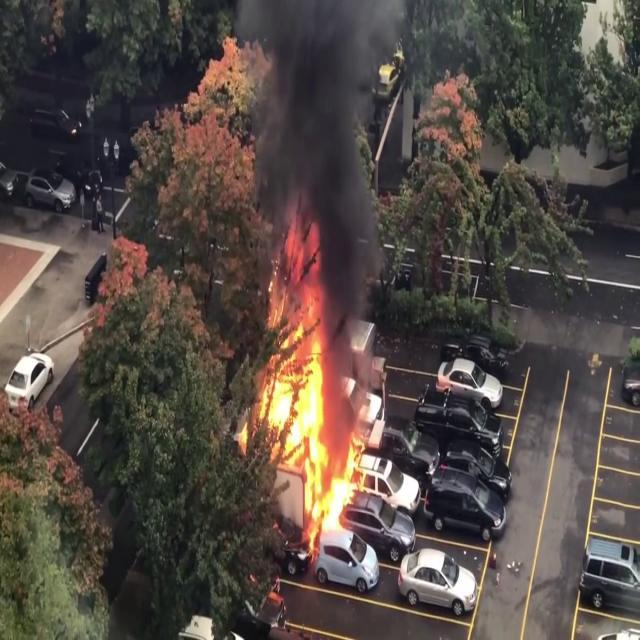Fire: (248, 216, 370, 548)
Smoke: (244, 0, 396, 299)
